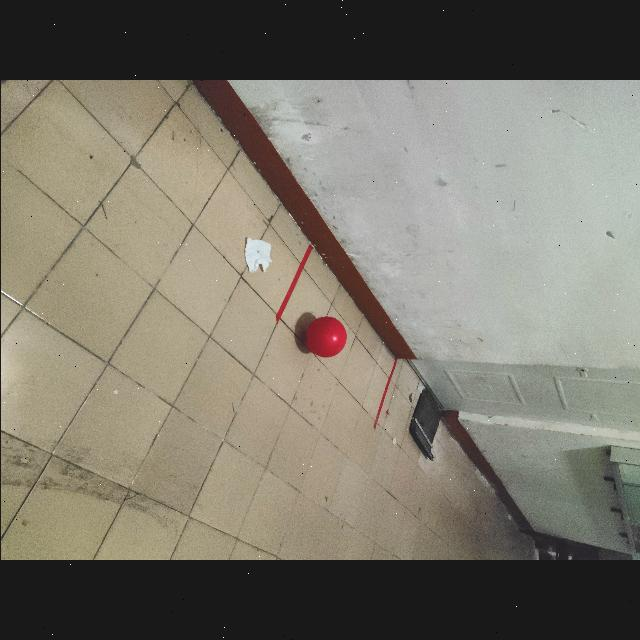R: (303, 316, 347, 358)
